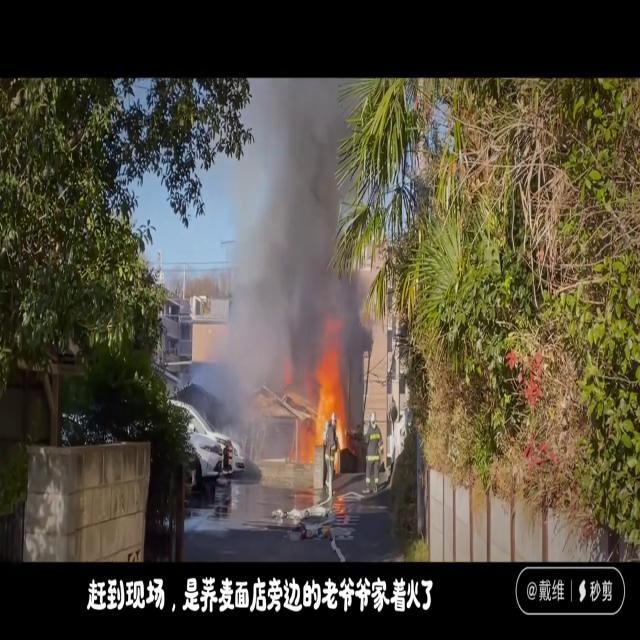Fire: (310, 338, 350, 462)
Smoke: (207, 80, 366, 508)
